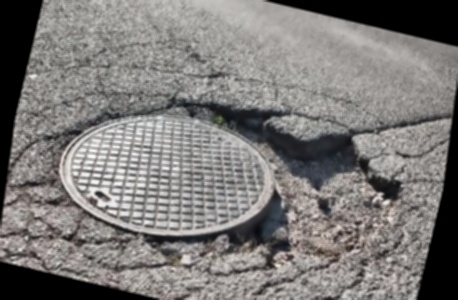pothole: (164, 68, 433, 300)
